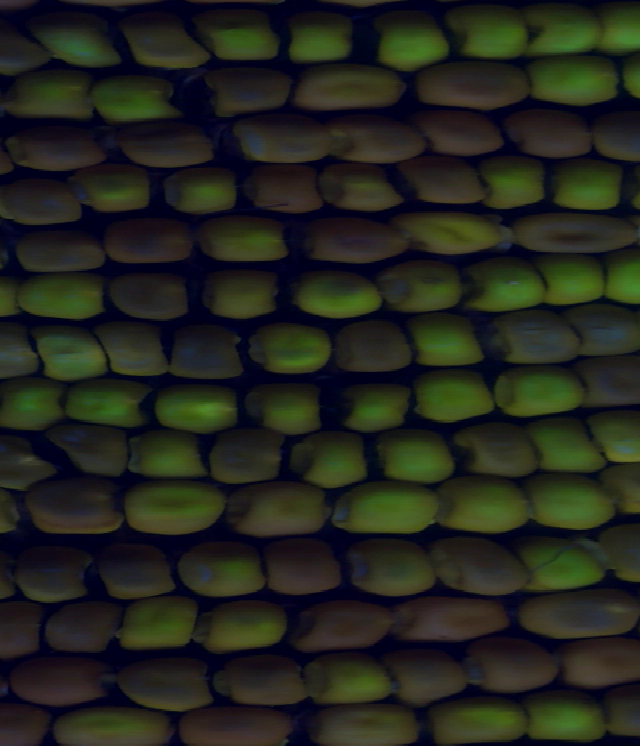fluorescent: (113, 481, 224, 536), (0, 272, 113, 323), (185, 533, 265, 600), (134, 385, 243, 431), (376, 266, 475, 316), (546, 153, 626, 214), (207, 263, 288, 323), (295, 69, 401, 114), (402, 375, 499, 424), (350, 537, 433, 592), (378, 431, 456, 489), (56, 708, 185, 743), (413, 314, 485, 376), (444, 4, 520, 62), (195, 214, 288, 260), (430, 700, 522, 746), (523, 700, 614, 746), (521, 530, 597, 585), (239, 491, 331, 536), (498, 371, 601, 411), (199, 598, 286, 645), (297, 269, 384, 316), (470, 260, 549, 310), (84, 79, 179, 120), (133, 427, 205, 481), (524, 8, 604, 56), (323, 705, 416, 746), (115, 600, 191, 650), (528, 62, 615, 104), (531, 481, 617, 523), (259, 381, 328, 433), (242, 324, 327, 366), (539, 421, 608, 472), (86, 166, 159, 214), (420, 216, 501, 259), (486, 153, 544, 213), (275, 14, 346, 63), (43, 331, 108, 384), (68, 387, 153, 426), (339, 497, 436, 531), (163, 171, 236, 216), (439, 487, 526, 524), (0, 384, 69, 430), (336, 391, 410, 433), (39, 20, 105, 65), (326, 646, 382, 698), (370, 21, 444, 60), (202, 27, 281, 63), (588, 408, 640, 462), (17, 75, 92, 111), (323, 175, 397, 210), (543, 259, 598, 302), (310, 439, 359, 485), (604, 259, 640, 302), (599, 13, 640, 50), (610, 471, 640, 517)
nonfluorescent: (499, 213, 640, 258), (520, 588, 640, 639), (105, 18, 215, 71), (397, 158, 489, 221), (478, 313, 581, 368), (23, 482, 115, 543), (301, 213, 413, 263), (475, 636, 568, 694), (7, 655, 105, 710), (431, 537, 527, 592), (299, 602, 398, 652), (410, 592, 515, 639), (265, 534, 346, 592), (182, 704, 301, 742), (215, 659, 313, 704), (463, 418, 540, 475), (505, 110, 588, 162), (227, 111, 324, 155), (314, 116, 414, 158), (101, 272, 188, 320), (420, 65, 527, 104), (163, 329, 246, 379), (0, 130, 98, 172), (104, 224, 194, 269), (124, 126, 218, 169), (288, 75, 397, 111), (40, 607, 114, 660), (56, 430, 131, 482), (331, 323, 410, 372), (566, 308, 640, 358), (91, 553, 179, 595), (418, 110, 498, 156), (240, 163, 317, 210), (0, 179, 75, 226), (213, 433, 282, 482), (118, 663, 227, 694), (17, 555, 85, 601), (581, 360, 640, 413), (11, 236, 94, 273), (395, 653, 472, 691), (215, 71, 288, 111), (559, 639, 640, 675), (0, 698, 49, 746), (598, 521, 640, 576), (589, 117, 640, 160), (0, 446, 43, 491), (0, 30, 44, 69), (0, 613, 39, 655)
